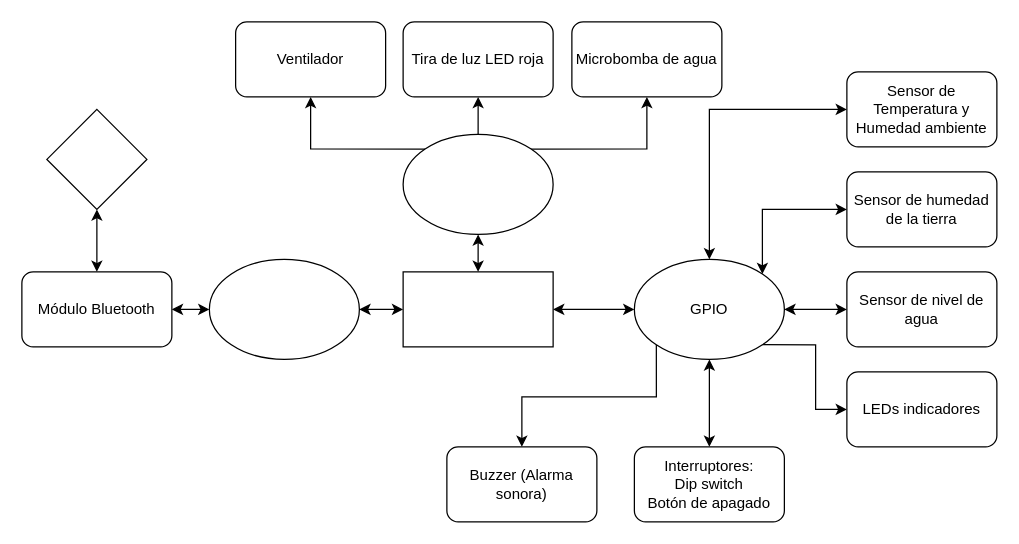
This 1019x544 diagram has some shape labels left out. The shapes that lost their labels are listed below. From the top down, each one's centre as x and y in pixels, then its label:
At pixel 96 158: "APP".
At pixel 477 183: "PWM".
At pixel 283 308: "UART".
At pixel 477 309: "Microcontrolador".
